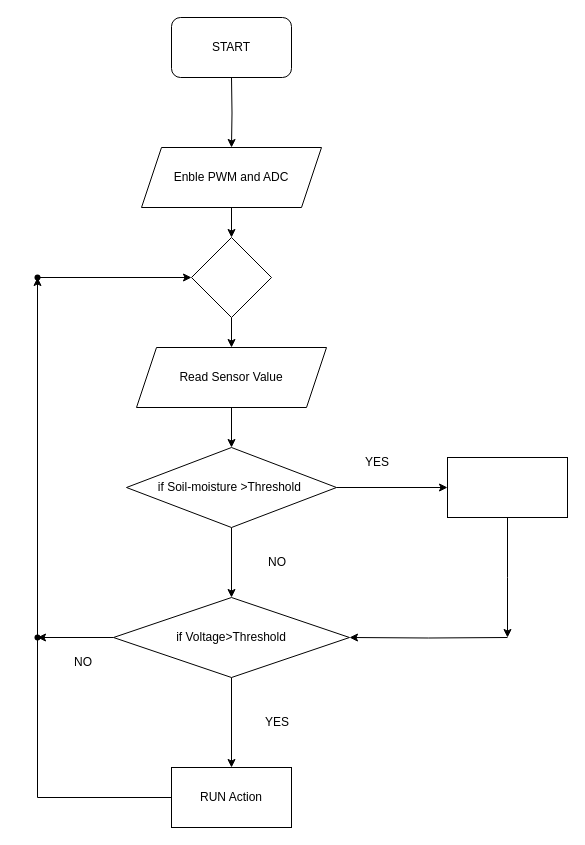
The diagram is 585 pixels wide and 845 high, and some of its shapes have lost their labels. The centre of each missing label's shape, as x and y in pixels:
"LOOP" belongs at (x=231, y=277).
"Run Motor" belongs at (x=507, y=487).
